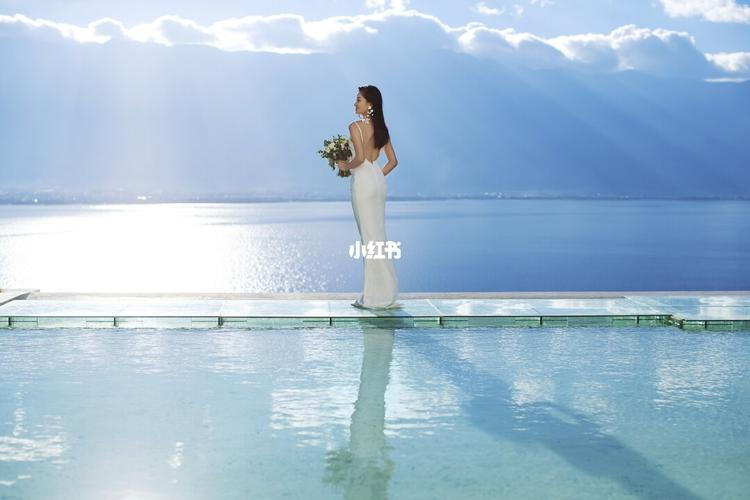sea_river: (70, 322, 738, 466), (24, 202, 730, 294)
sky_cloud: (13, 25, 750, 197), (316, 50, 747, 190)
